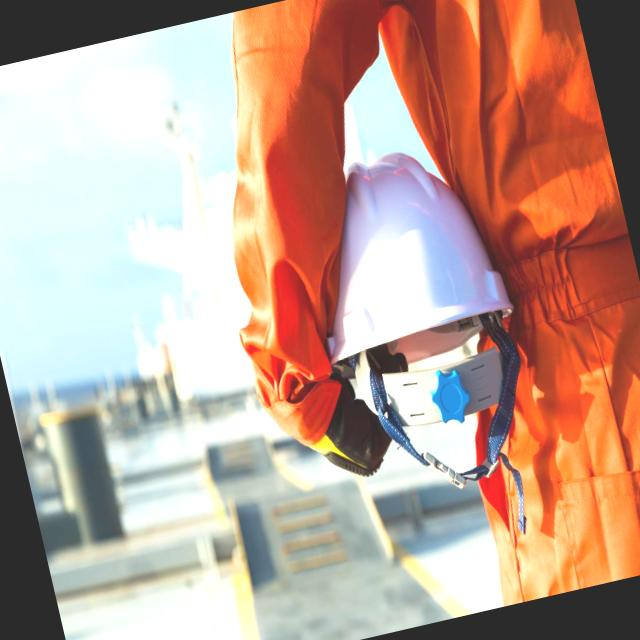helmet: (292, 130, 545, 490)
